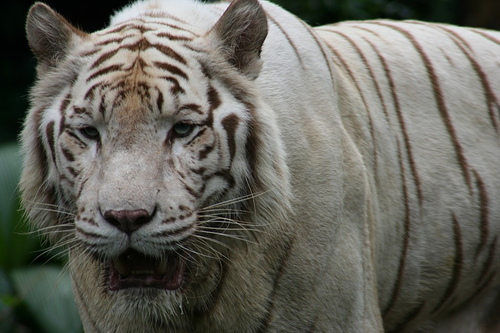Tigre: (23, 5, 434, 308)
